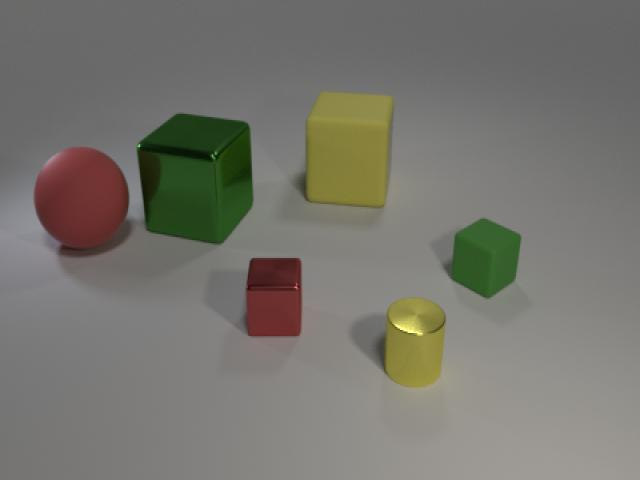cylinder: (374, 293, 452, 393)
round ball: (27, 139, 133, 257)
